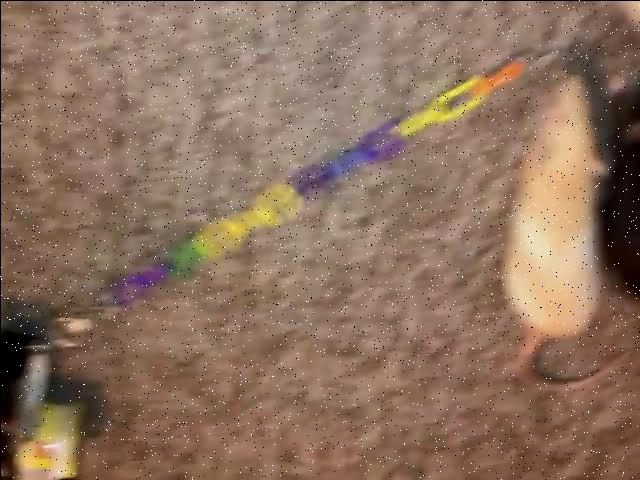Tikus: (506, 60, 614, 392)
